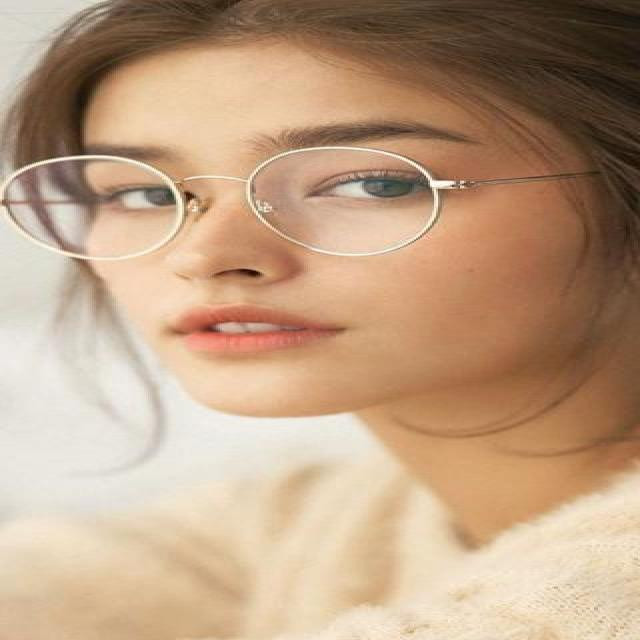glasses: (1, 145, 543, 259)
